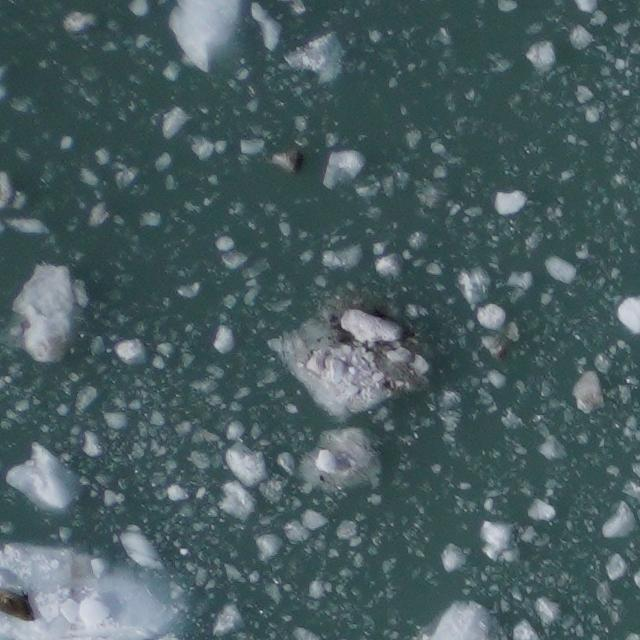seal: (0, 586, 39, 625)
